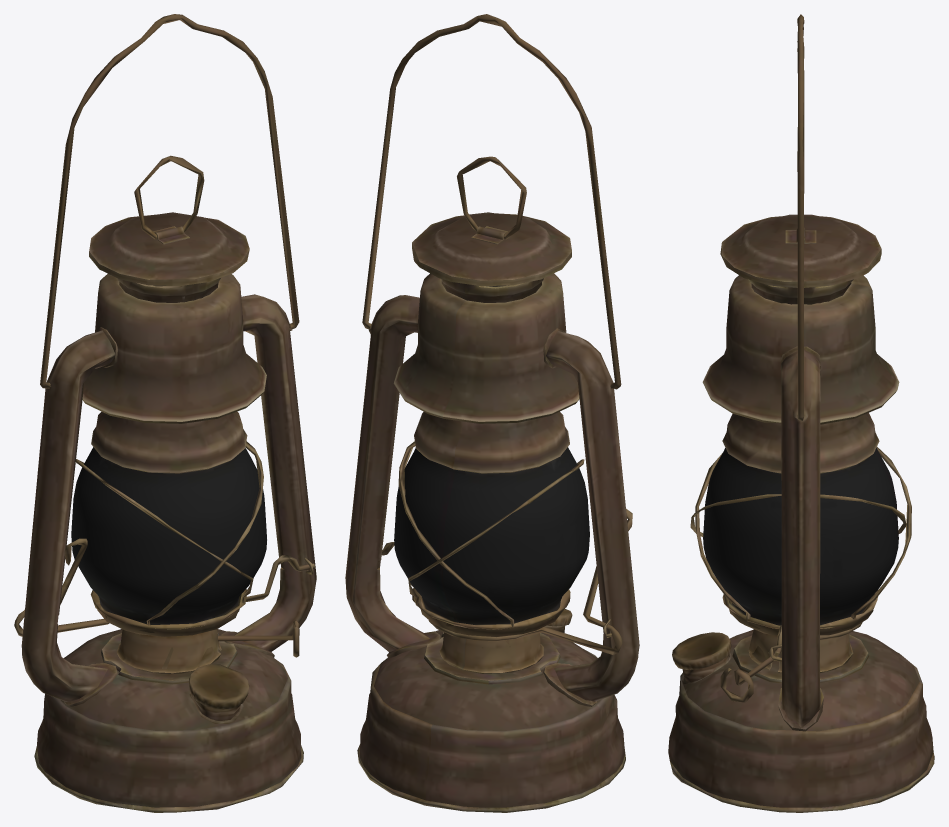
The model's file is Lantern_01.glb.
3 renders of one model, left to right at view 1: azimuth 30°, elevation 25°; view 2: azimuth 150°, elevation 25°; view 3: azimuth 270°, elevation 25°, orthographic.
Visible parts, largest first — view 1: Lantern_01, Lantern_01_glass; view 2: Lantern_01, Lantern_01_glass; view 3: Lantern_01, Lantern_01_glass.
Part boxes in pixels (left/top/right/bottom): Lantern_01: left=14, top=14, right=316, bottom=812; Lantern_01_glass: left=71, top=447, right=266, bottom=624; Lantern_01: left=345, top=14, right=639, bottom=812; Lantern_01_glass: left=394, top=447, right=589, bottom=624; Lantern_01: left=668, top=14, right=934, bottom=812; Lantern_01_glass: left=703, top=448, right=898, bottom=625.
Size of the model in its own units: 0.1219 by 0.2939 by 0.096.
2 materials, 2 textured.
